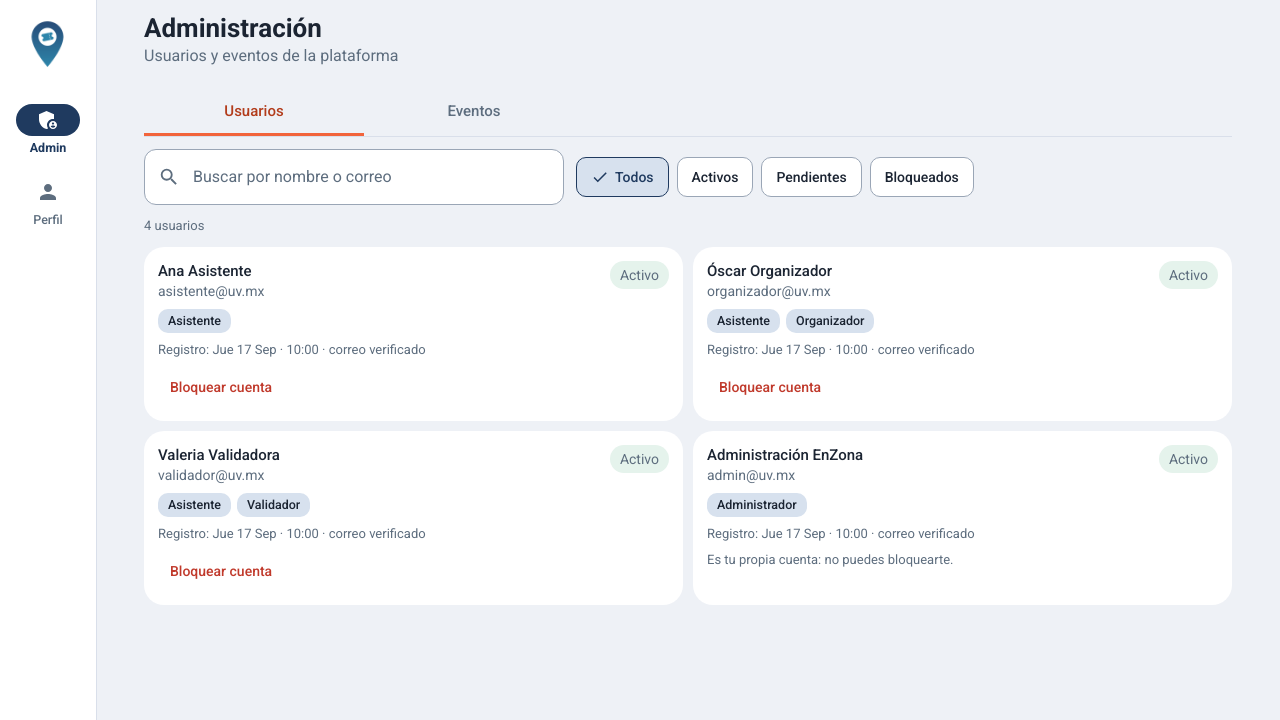
Scenario: administración (RF-18) › filtra usuarios por texto
The image size is (1280, 720).
Expected: the element "Ana Asistente" is shown, [144, 247, 683, 421]
Type "valeria" into the search field labelled "Buscar por nombre o correo". click: (376, 177)
box: [189, 150, 563, 204]
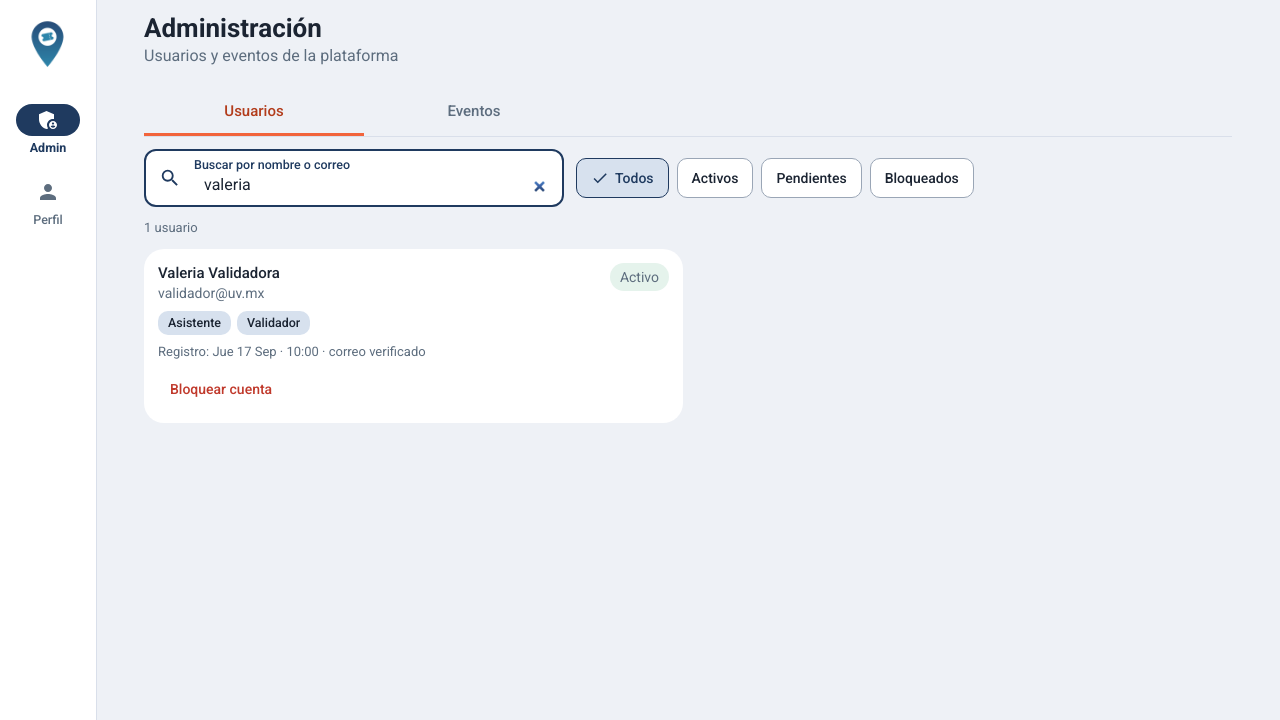
Expected: the element "Valeria Validadora" is shown, [144, 249, 683, 423]
Expected: the text "1 usuario" is shown, [144, 220, 198, 235]
Expected: the text "Ana Asistente" is gone
